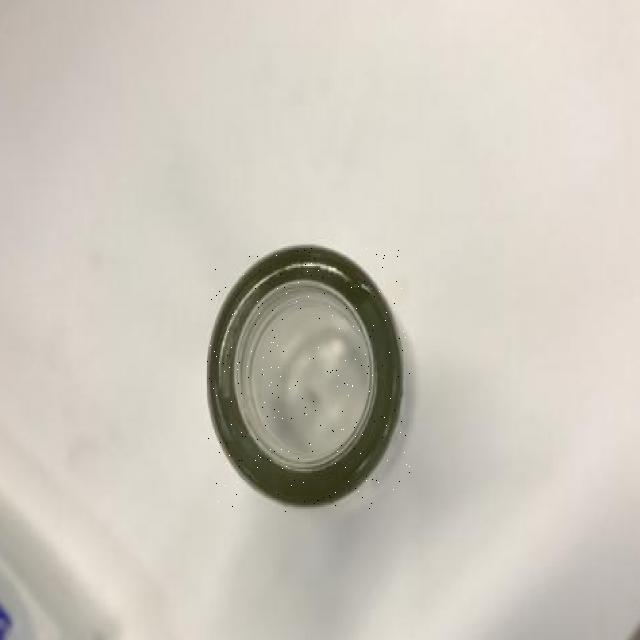glass: (208, 247, 411, 512)
